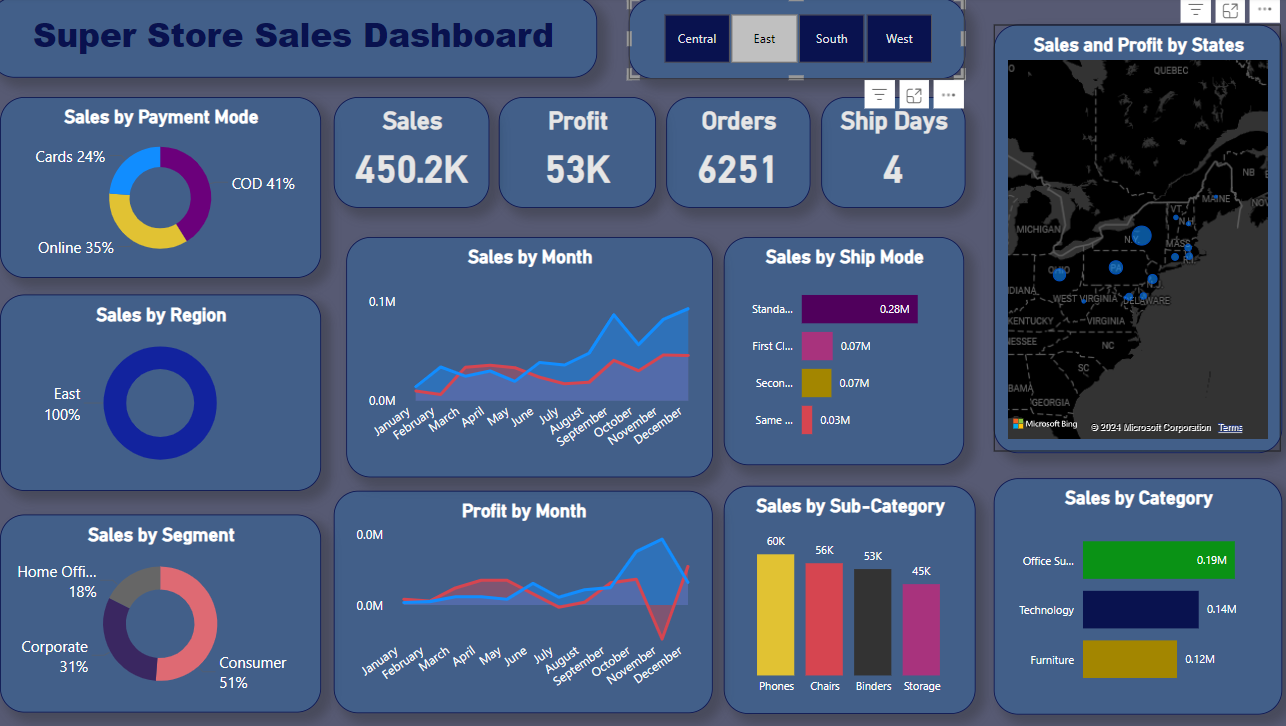

Layout of this report page (visuals, bound fields, positions):
{"tool":"powerbi","page":{"name":"Dashboard","canvas":[1280,720],"ordinal":0},"visuals":[{"type":"textbox","box":[0,0,595.8,79.2],"z":0},{"type":"donutChart","title":"Sales by Payment Mode ","fields":{"Category":["SuperStore_Sales_Dataset.Payment Mode"],"Y":["CountNonNull(SuperStore_Sales_Dataset.Payment Mode)"]},"box":[9.7,98.6,315.3,177.8],"z":1000},{"type":"donutChart","title":"Sales by Region ","fields":{"Category":["SuperStore_Sales_Dataset.Region"],"Y":["CountNonNull(SuperStore_Sales_Dataset.Region)"]},"box":[9.7,291.7,315.3,193.1],"z":2000},{"type":"donutChart","title":"Sales by Segment","fields":{"Category":["SuperStore_Sales_Dataset.Segment"],"Y":["CountNonNull(SuperStore_Sales_Dataset.Segment)"]},"box":[9.7,508.3,315.3,194.4],"z":3000},{"type":"barChart","title":"Sales by Ship Mode","fields":{"Category":["SuperStore_Sales_Dataset.Ship Mode"],"Y":["Sum(SuperStore_Sales_Dataset.Sales)"]},"box":[720.8,236.1,236.1,223.6],"z":4000},{"type":"barChart","title":"Sales by Category","fields":{"Category":["SuperStore_Sales_Dataset.Category"],"Y":["Sum(SuperStore_Sales_Dataset.Sales)"]},"box":[984.7,472.2,283.3,231.9],"z":5000},{"type":"columnChart","title":"Sales by Sub-Category","fields":{"Category":["SuperStore_Sales_Dataset.Sub-Category"],"Y":["Sum(SuperStore_Sales_Dataset.Sales)"]},"box":[720.8,479.2,247.2,223.6],"z":6000},{"type":"card","title":"Sales","fields":{"Values":["SuperStore_Sales_Dataset.Total Sales"]},"box":[337.1,98.6,152.9,108.6],"z":7000},{"type":"card","title":"Profit","fields":{"Values":["Sum(SuperStore_Sales_Dataset.Profit)"]},"box":[500,98.6,154.3,108.6],"z":8000},{"type":"card","title":"Orders","fields":{"Values":["Sum(SuperStore_Sales_Dataset.Quantity)"]},"box":[664.3,98.6,141.4,108.6],"z":9000},{"type":"card","title":"Ship Days ","fields":{"Values":["SuperStore_Sales_Dataset.Shipday"]},"box":[815.7,98.6,141.4,108.6],"z":10000},{"type":"slicer","fields":{"Values":["SuperStore_Sales_Dataset.Region"]},"box":[626.4,1.4,330.6,79.2],"z":11000},{"type":"map","title":"Sales and Profit by States","fields":{"Category":["SuperStore_Sales_Dataset.State"],"Size":["Sum(SuperStore_Sales_Dataset.Sales)"]},"box":[984.7,26.4,283.3,420.8],"z":12000},{"type":"areaChart","title":" Sales by Month ","fields":{"Category":["SuperStore_Sales_Dataset.Order Date.Variation.Date Hierarchy.Month"],"Series":["SuperStore_Sales_Dataset.Order Date.Variation.Date Hierarchy.Year"],"Y":["Sum(SuperStore_Sales_Dataset.Sales)"]},"box":[350,236.1,359.7,236.1],"z":13000},{"type":"areaChart","title":"Profit  by Month ","fields":{"Category":["SuperStore_Sales_Dataset.Order Date.Variation.Date Hierarchy.Month"],"Series":["SuperStore_Sales_Dataset.Order Date.Variation.Date Hierarchy.Year"],"Y":["Sum(SuperStore_Sales_Dataset.Profit)"]},"box":[337.5,484.7,372.2,218.1],"z":14000}]}

Visuals, with their boxes in screenshot pixels (x1, y1, x2, y2), scaled from the page's 1280x720 canvas onto the 1286x726 screenshot:
textbox: select_region(0, 0, 599, 80)
"Sales by Payment Mode " donutChart: select_region(10, 99, 327, 279)
"Sales by Region " donutChart: select_region(10, 294, 327, 489)
"Sales by Segment" donutChart: select_region(10, 513, 327, 709)
"Sales by Ship Mode" barChart: select_region(724, 238, 961, 464)
"Sales by Category" barChart: select_region(989, 476, 1274, 710)
"Sales by Sub-Category" columnChart: select_region(724, 483, 973, 709)
"Sales" card: select_region(339, 99, 492, 209)
"Profit" card: select_region(502, 99, 657, 209)
"Orders" card: select_region(667, 99, 809, 209)
"Ship Days " card: select_region(820, 99, 962, 209)
slicer - SuperStore_Sales_Dataset.Region: select_region(629, 1, 961, 81)
"Sales and Profit by States" map: select_region(989, 27, 1274, 451)
" Sales by Month " areaChart: select_region(352, 238, 713, 476)
"Profit  by Month " areaChart: select_region(339, 489, 713, 709)
